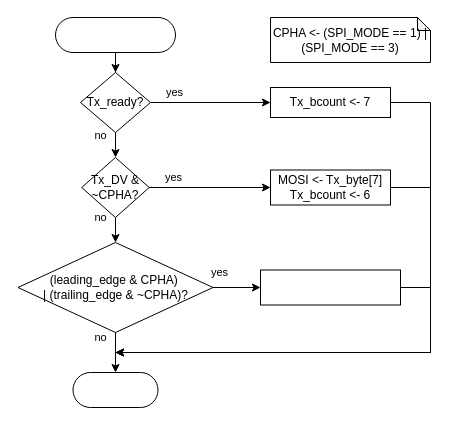
Image size: 456x425. Some labels were removed from this diagram. The shapes that lost their labels are listed below. From the top down, each one's centre as x and y in pixels, then its label:
[115,34]: Gen MOSI
[330,287]: TX_bcount <- TX_bcount - 1 MOSI <- TX_byte[TX_bcount]
[115,390]: end
